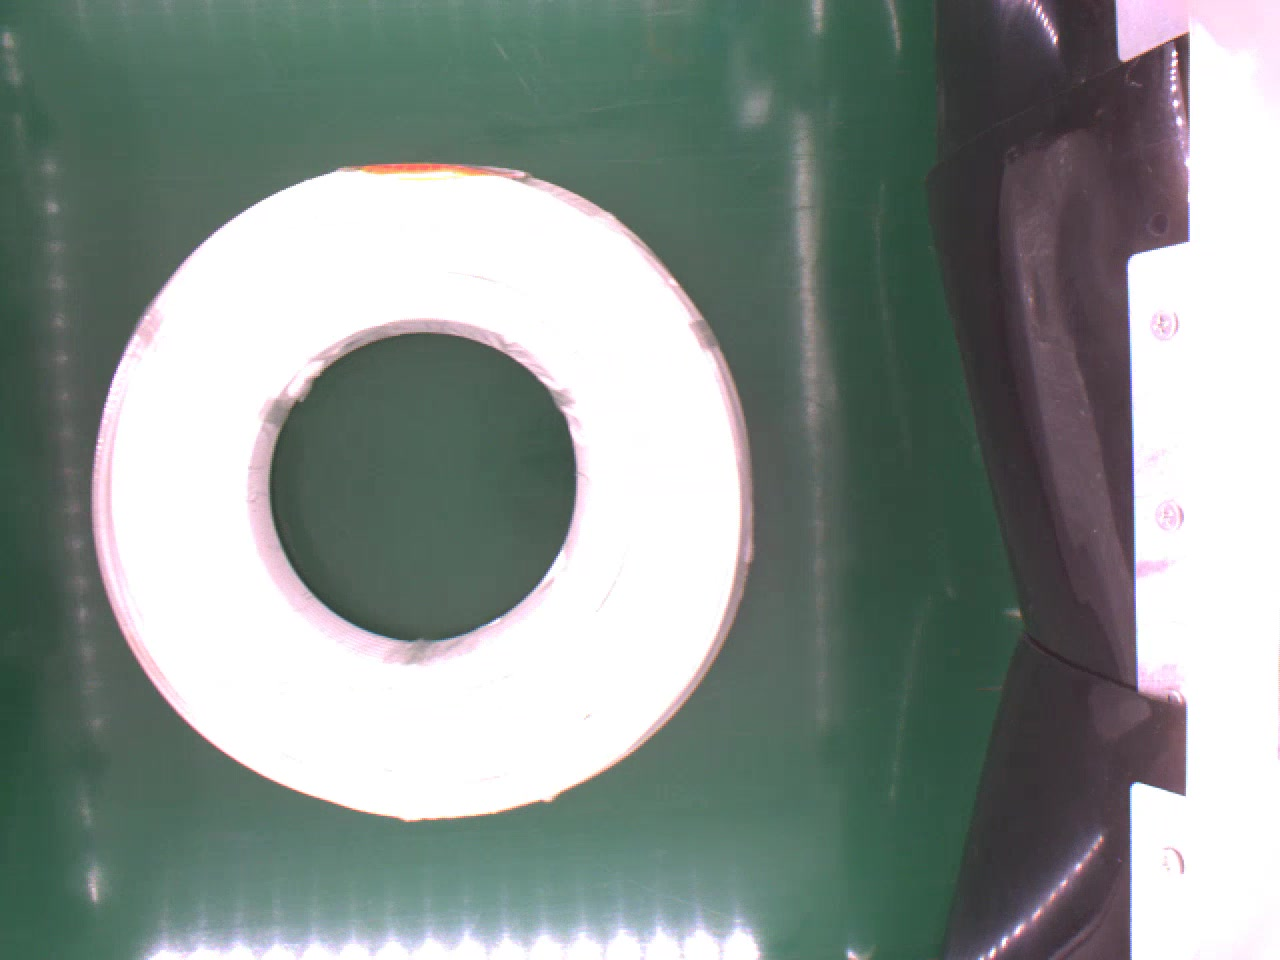white: (87, 154, 763, 823)
